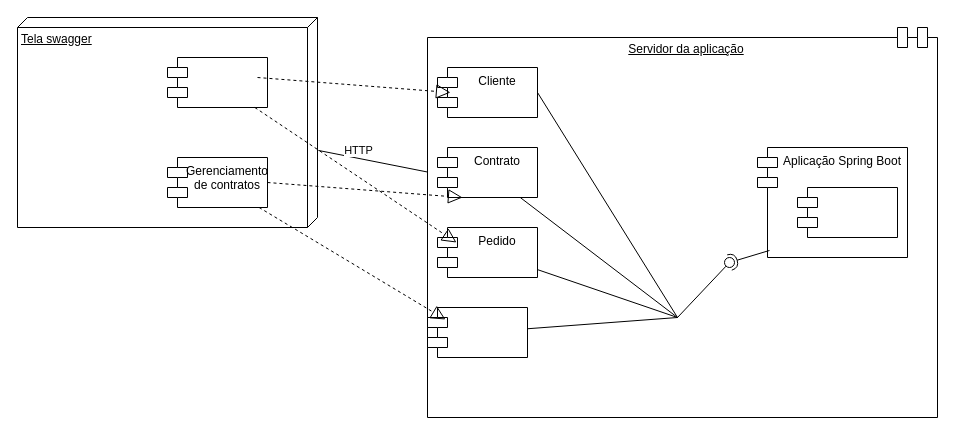
Image size: 955x435. Some labels were removed from this diagram. The centre of each missing label's shape, as x and y in pixels:
Agente: (x=477, y=332)
BD H2: (x=847, y=212)
Gerenciamento de pedidos: (x=217, y=82)
